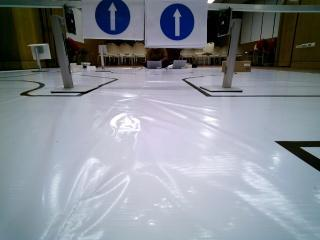straight: (146, 2, 205, 47), (84, 1, 144, 39)
